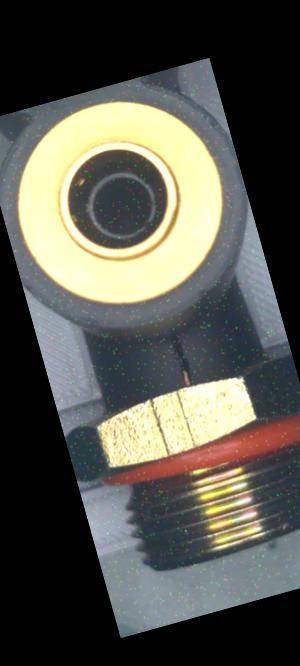craze: (165, 327, 197, 387)
